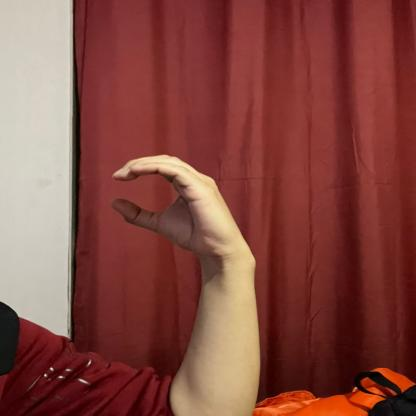C: (106, 150, 241, 260)
